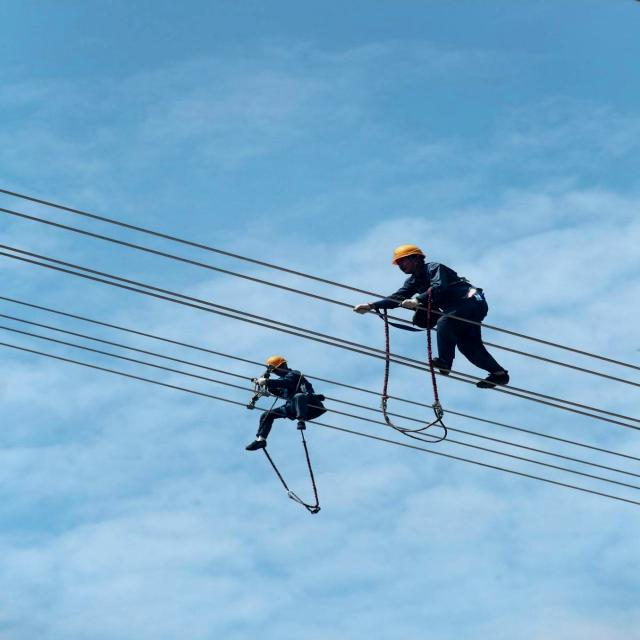hand_glove: (395, 297, 422, 317), (352, 297, 369, 323)
head_helmet: (391, 242, 426, 261), (260, 358, 291, 370)
person: (370, 245, 500, 398), (211, 356, 327, 459)
shoes: (473, 372, 514, 393), (239, 434, 274, 454), (429, 356, 451, 376), (292, 417, 309, 432)
